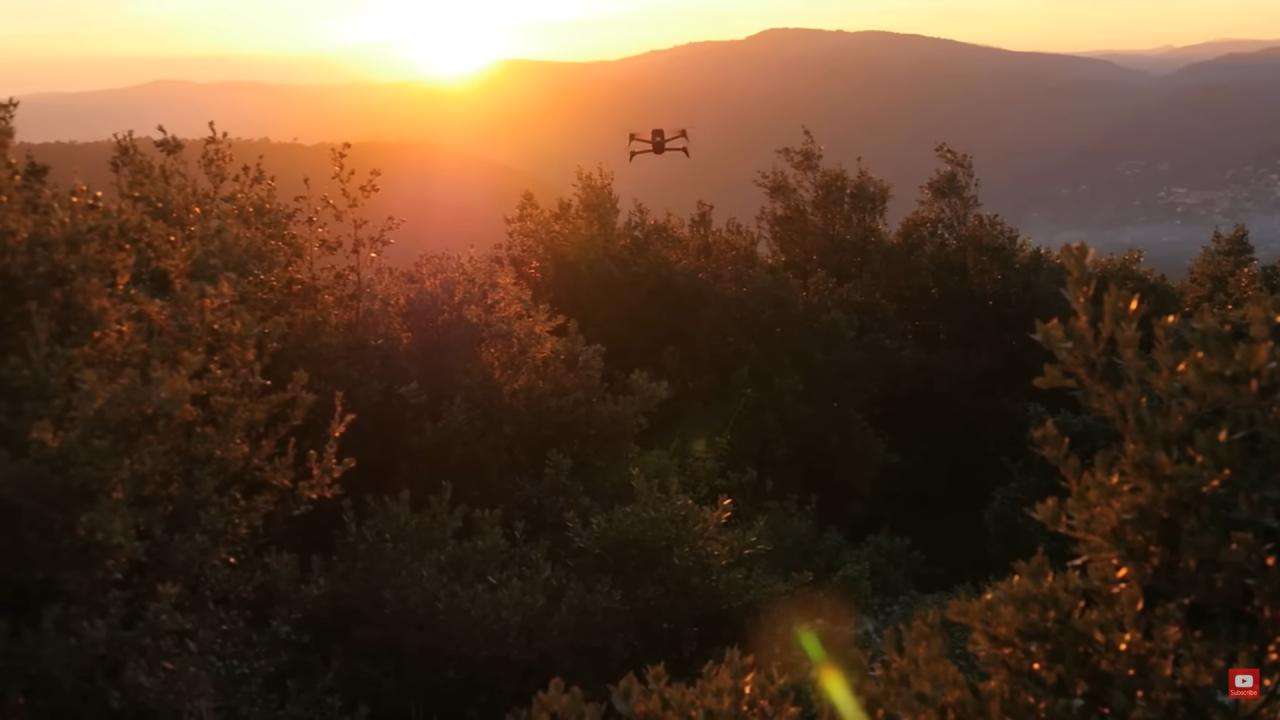Drone: (621, 123, 698, 169)
